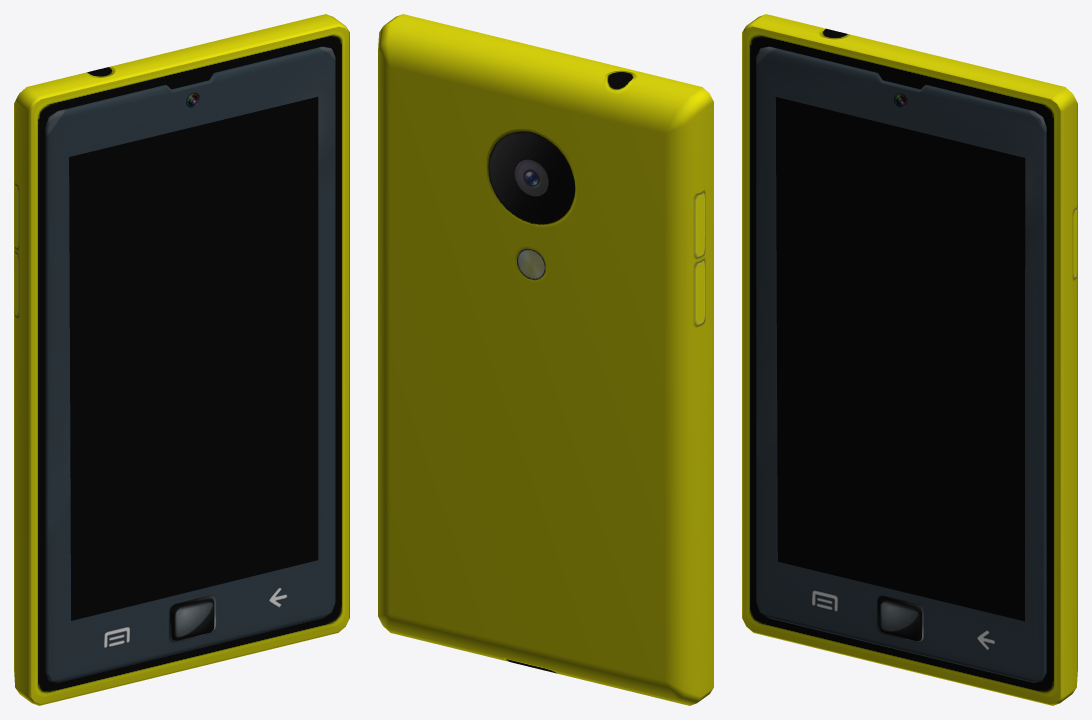
File: mobile.fbx
3 renders of one model, left to right at view 1: azimuth 30°, elevation 25°; view 2: azimuth 150°, elevation 25°; view 3: azimuth 330°, elevation 25°, orthographic.
Visible parts, largest first — view 1: 078; view 2: 078; view 3: 078.
Boxes of the visible parts, x1,y1,x2,y2 form: 078: (14, 14, 349, 705); 078: (378, 14, 713, 705); 078: (742, 14, 1077, 705).
Bounding box in the file's own units: 2.65 × 4.79 × 0.4261.
2 materials, 2 textured.
